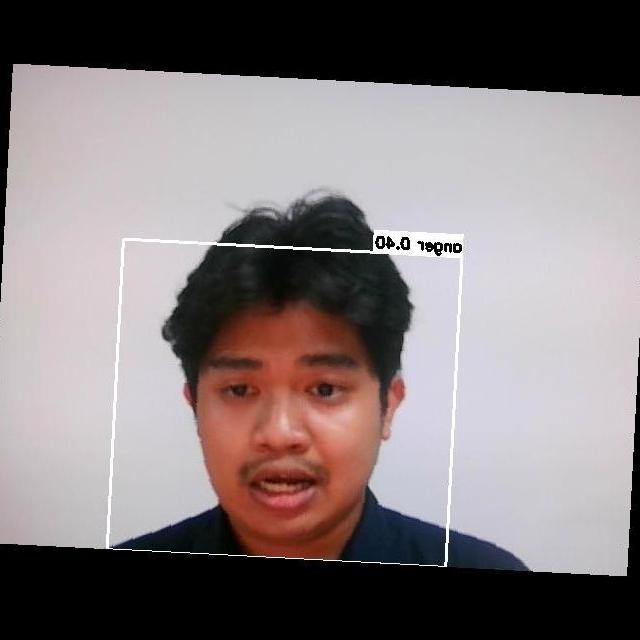Fear: (180, 322, 386, 531)
